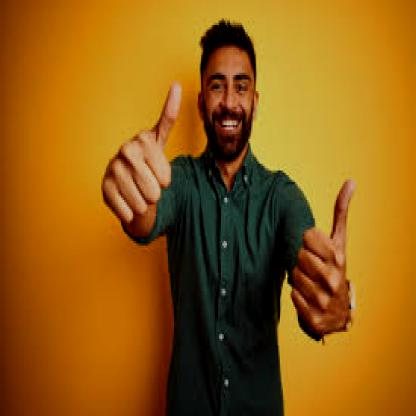Thumbs up: (288, 165, 358, 334)
